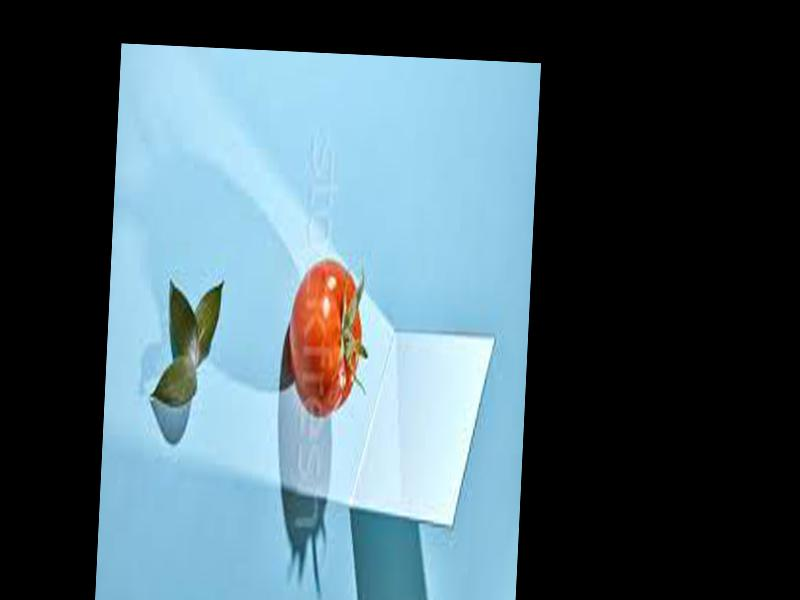Tomato: (285, 254, 366, 419)
